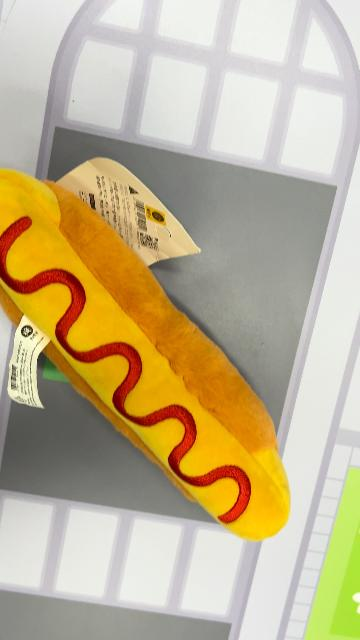hotdog: (1, 167, 292, 543)
